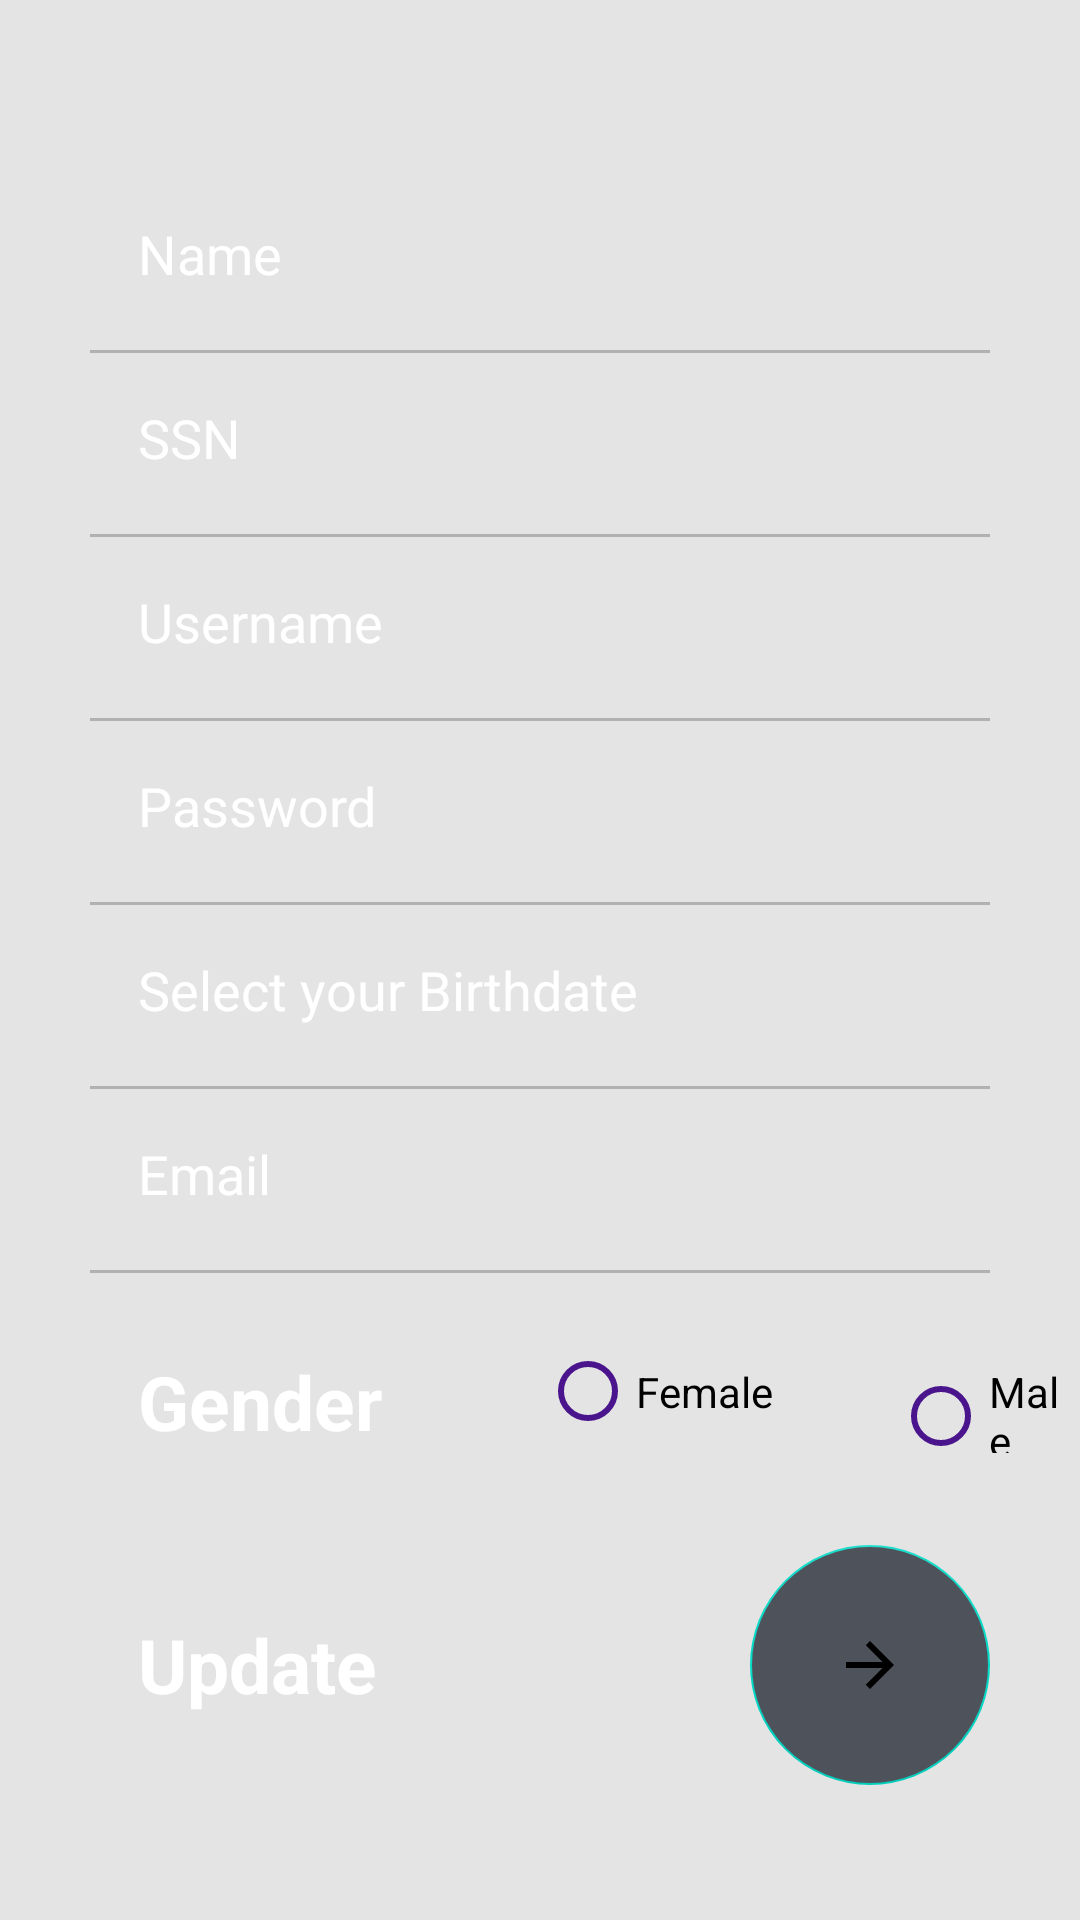

Icons on this 1080 x 1920 Android screen, each with its box as BBox(x1, y1, x2, y2):
arrow forward: BBox(750, 1545, 990, 1785)
